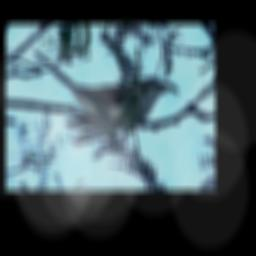Cuckoo: (28, 48, 178, 139)
